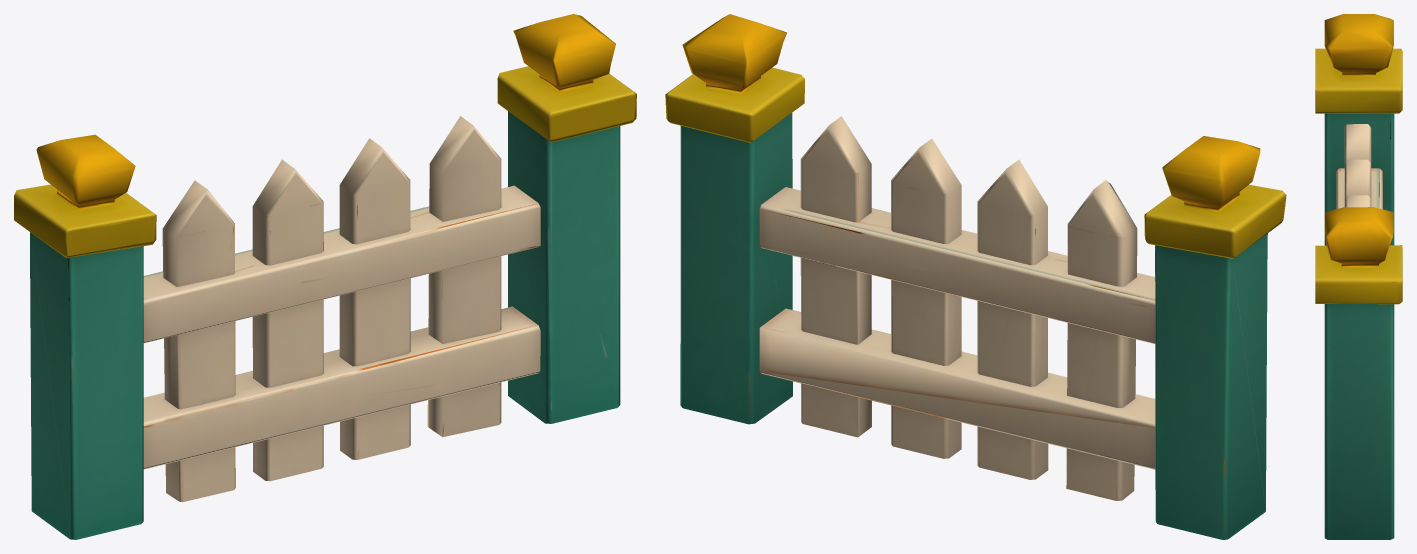
File: fence_picket.glb
3 renders of one model, left to right at view 1: azimuth 30°, elevation 25°; view 2: azimuth 150°, elevation 25°; view 3: azimuth 270°, elevation 25°, orthographic. The views are drawn at different scales.
Visible parts, largest first — view 1: fence_picket; view 2: fence_picket; view 3: fence_picket.
Boxes of the visible parts, x1,y1,x2,y2 form: fence_picket: (14, 14, 636, 539); fence_picket: (665, 14, 1286, 539); fence_picket: (1315, 14, 1402, 539).
Size of the model in its own units: 0.6143 by 0.3857 by 0.0977.
Materials: 1 (1 with a texture image).
